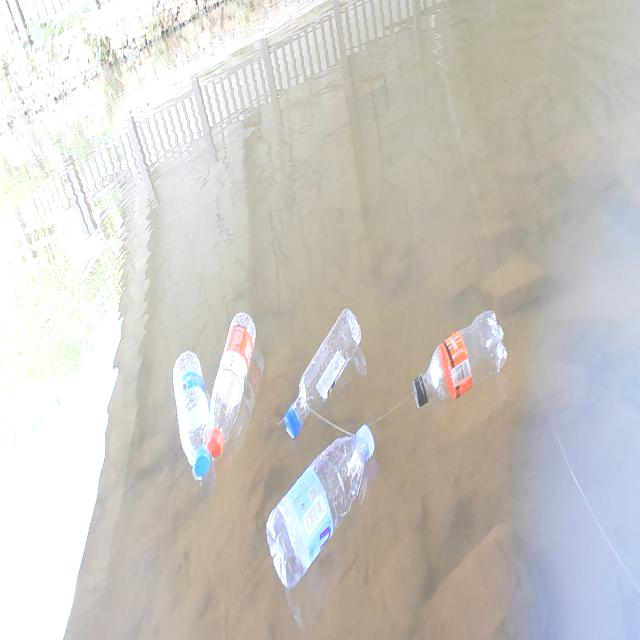bottle: (258, 419, 382, 594), (264, 288, 376, 446), (406, 302, 512, 414), (206, 309, 257, 456), (170, 325, 215, 490)
